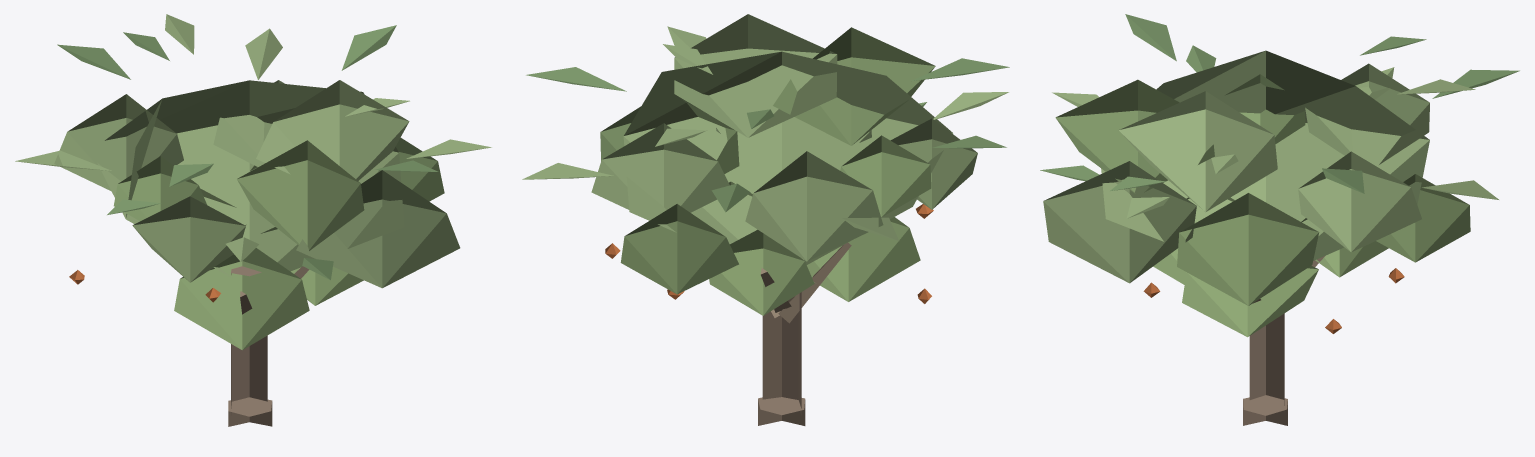
File: shu.mangguo__summer.glb
The picture shows the model from 3 angles, left to right: view 1: azimuth 30°, elevation 25°; view 2: azimuth 150°, elevation 25°; view 3: azimuth 270°, elevation 25°; orthographic projection. The views are drawn at different scales.
Parts seen in each view (by area): view 1: shu.mangguo__summer; view 2: shu.mangguo__summer; view 3: shu.mangguo__summer.
Boxes of the visible parts, x1,y1,x2,y2 form: shu.mangguo__summer: (15, 14, 491, 426); shu.mangguo__summer: (522, 14, 1009, 425); shu.mangguo__summer: (1040, 14, 1519, 425).
Size of the model in its own units: 12.41 by 11.4 by 13.39.
